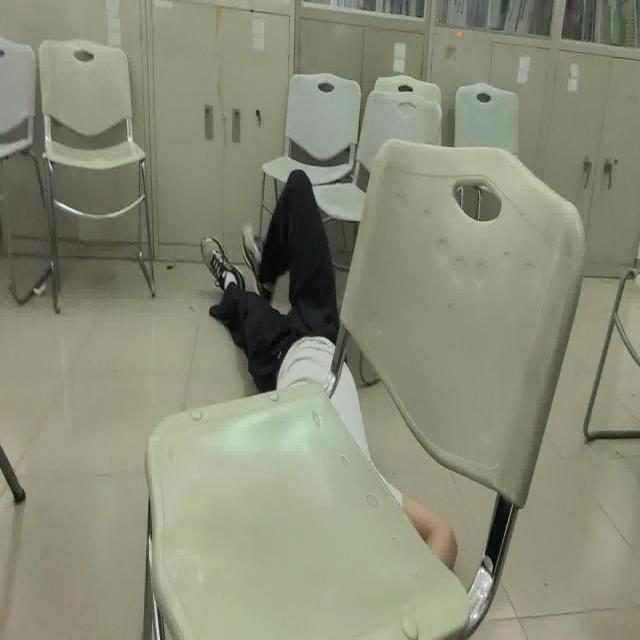Fall-Detected: (198, 163, 462, 595)
